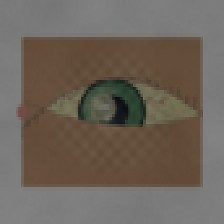corneal_ulcer: (80, 89, 126, 126)
